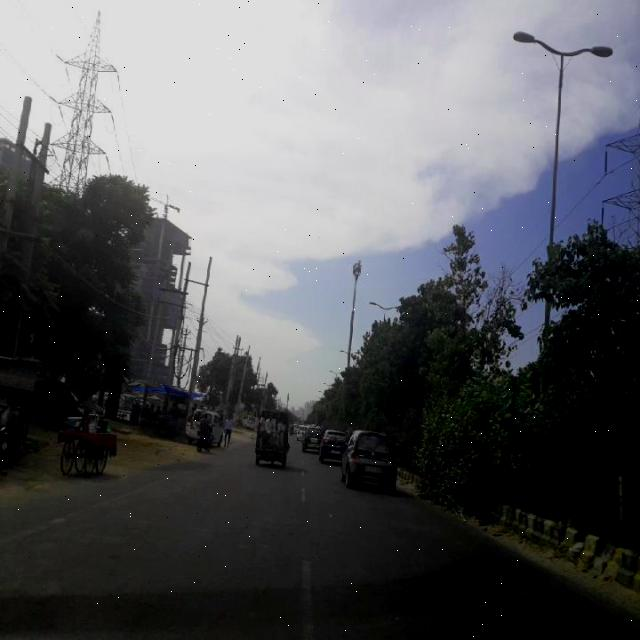D20: (42, 496, 402, 620)
D44: (0, 480, 157, 555), (296, 550, 316, 630)
